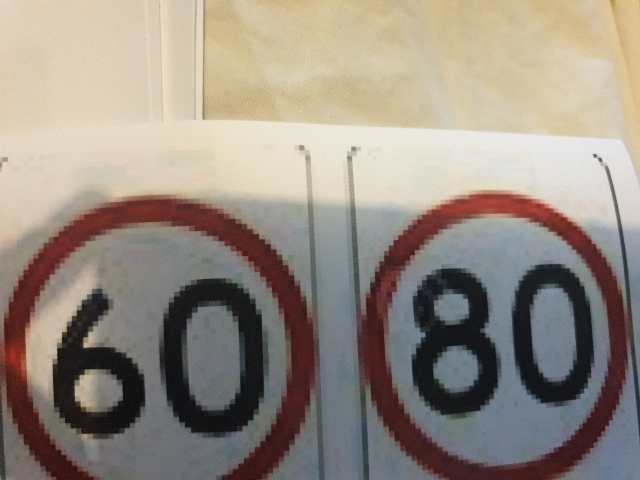sp60: (2, 206, 337, 471)
sp80: (367, 204, 625, 477)
